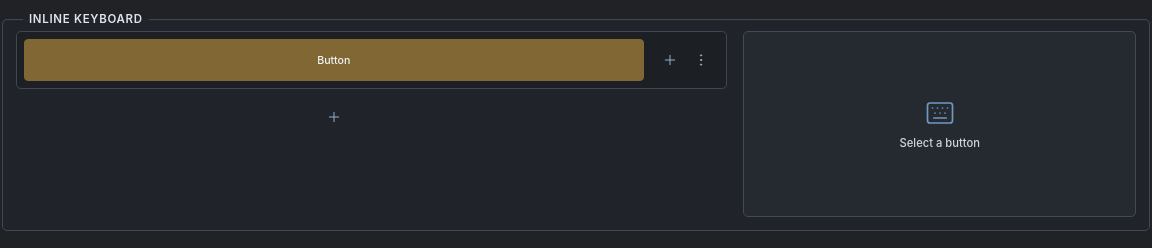
Test: KeyboardComposer › uses the next free default label for an added button
The width and height of the screenshot is (1152, 248).
What coordinates should you click on to do the following:
click the button named "Add button to row 1"
I would click on:
 (670, 60)
Its box is x1=658 y1=39 x2=682 y2=81.
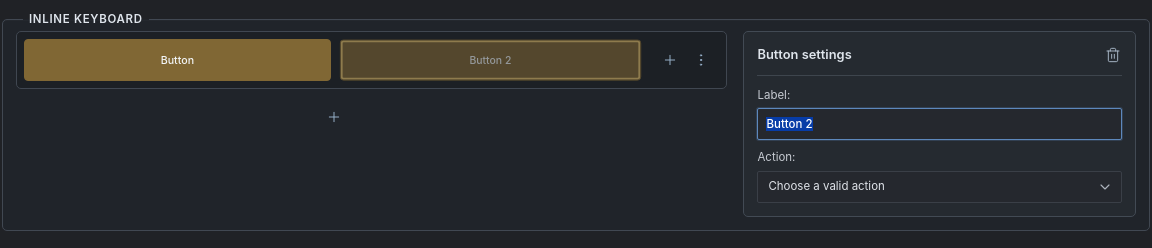
Result: the field named "Button text" holds "Button 2" at x1=758 y1=108 x2=1122 y2=140
